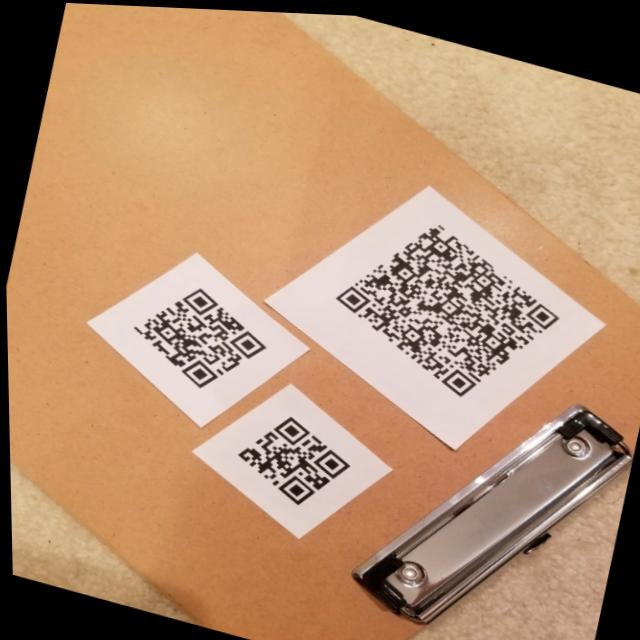QR_CODE: (307, 180, 583, 429), (107, 258, 283, 410), (213, 379, 375, 525)
